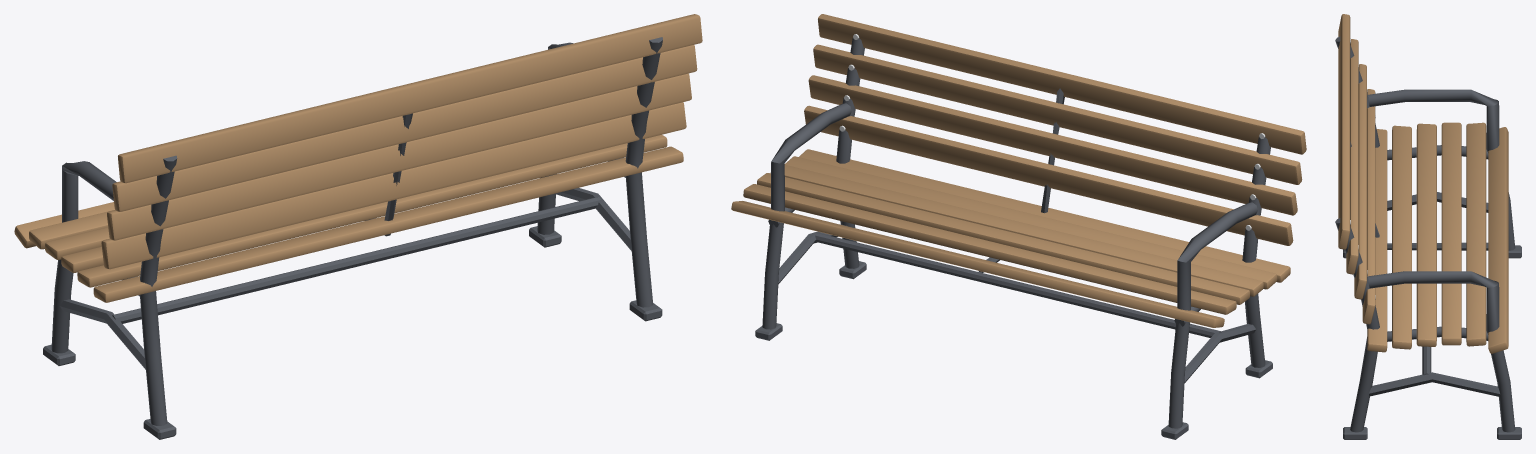
The model's file is Town_ParkBench.fbx.
The picture shows the model from 3 angles, left to right: view 1: azimuth 30°, elevation 25°; view 2: azimuth 150°, elevation 25°; view 3: azimuth 270°, elevation 25°; orthographic projection. The views are drawn at different scales.
Parts seen in each view (by area): view 1: Town_ParkBench; view 2: Town_ParkBench; view 3: Town_ParkBench.
Part boxes in pixels (x1,y1,x2,y2): Town_ParkBench: [14, 14, 702, 439]; Town_ParkBench: [731, 14, 1306, 439]; Town_ParkBench: [1335, 14, 1521, 439].
Size of the model in its own units: 1.86 by 0.9061 by 0.6779.
